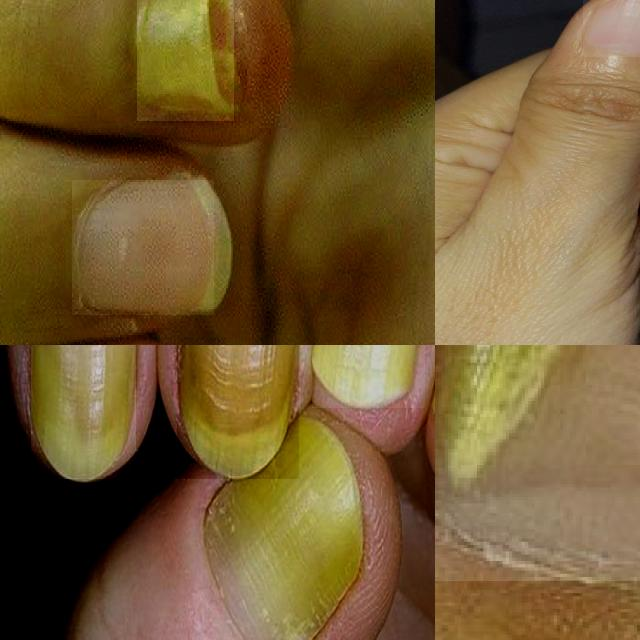diabetes: (435, 345, 640, 577), (203, 415, 363, 640), (177, 345, 295, 479), (32, 345, 135, 479), (137, 0, 234, 121), (313, 345, 420, 408)
sehat: (73, 180, 214, 315)
